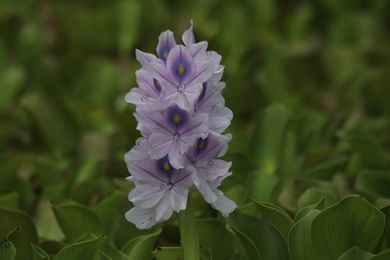water_hyacinth: (0, 28, 390, 260)
